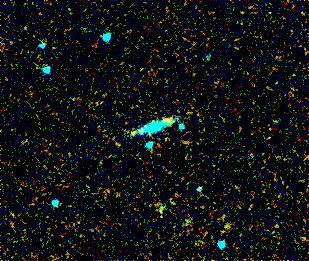star: (116, 116, 146, 146)
